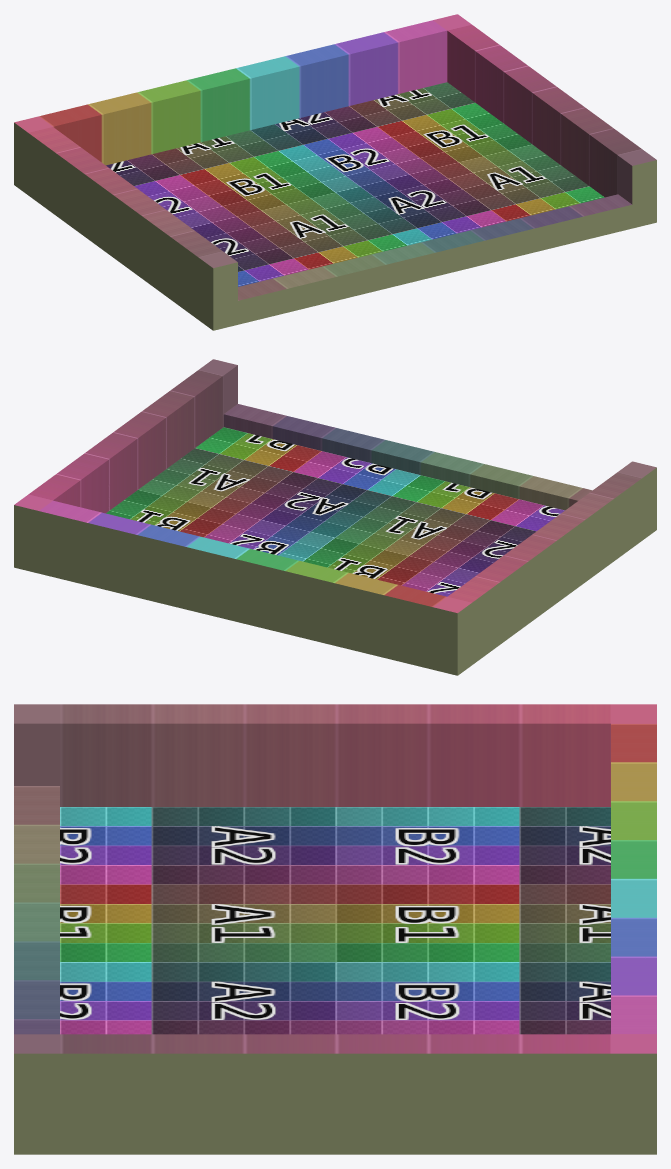
The model's file is test_room.glb.
The picture shows the model from 3 angles, top to bottom: view 1: azimuth 30°, elevation 25°; view 2: azimuth 150°, elevation 25°; view 3: azimuth 270°, elevation 25°; orthographic projection. The views are drawn at different scales.
Visible parts, largest first — view 1: floor_and_walls; view 2: floor_and_walls; view 3: floor_and_walls.
Boxes of the visible parts, x1,y1,x2,y2 form: floor_and_walls: [14, 14, 656, 330]; floor_and_walls: [14, 359, 656, 675]; floor_and_walls: [14, 704, 656, 1154].
Size of what is drawn, in the model's own units: 18 by 2.43 by 14.
Materials: 1 (1 with a texture image).
